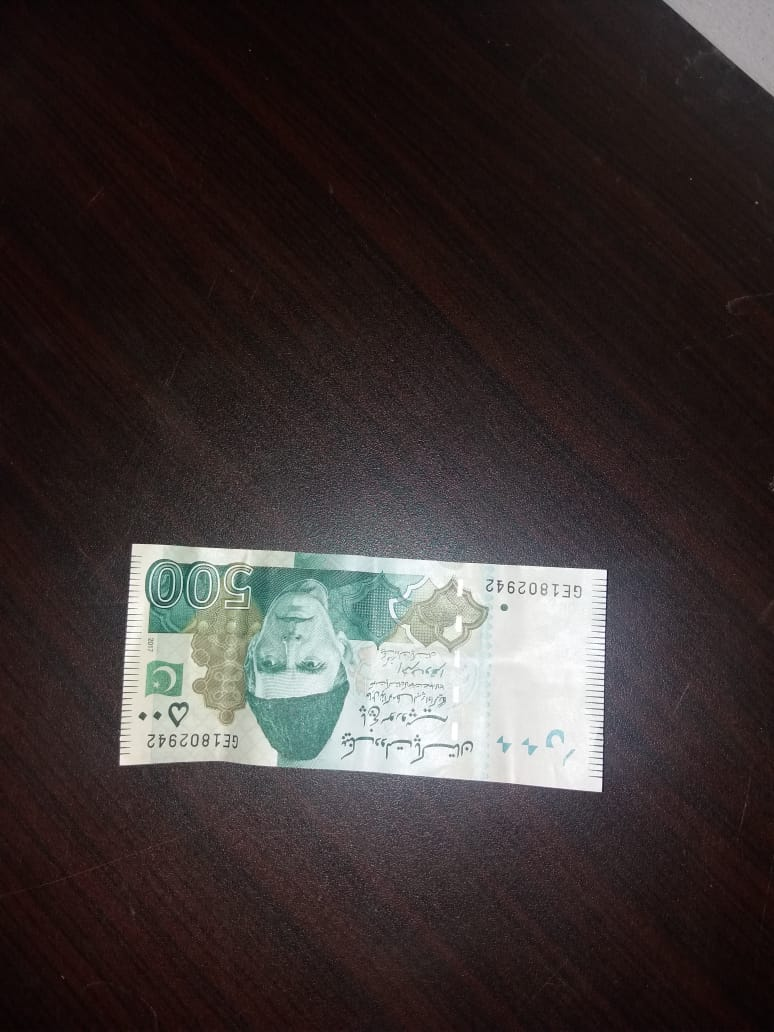500 rupee: (117, 518, 615, 843)
